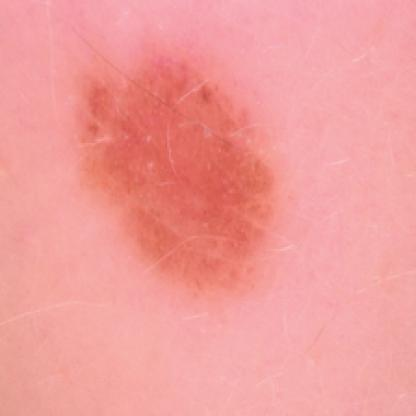benign: (84, 61, 280, 288)
